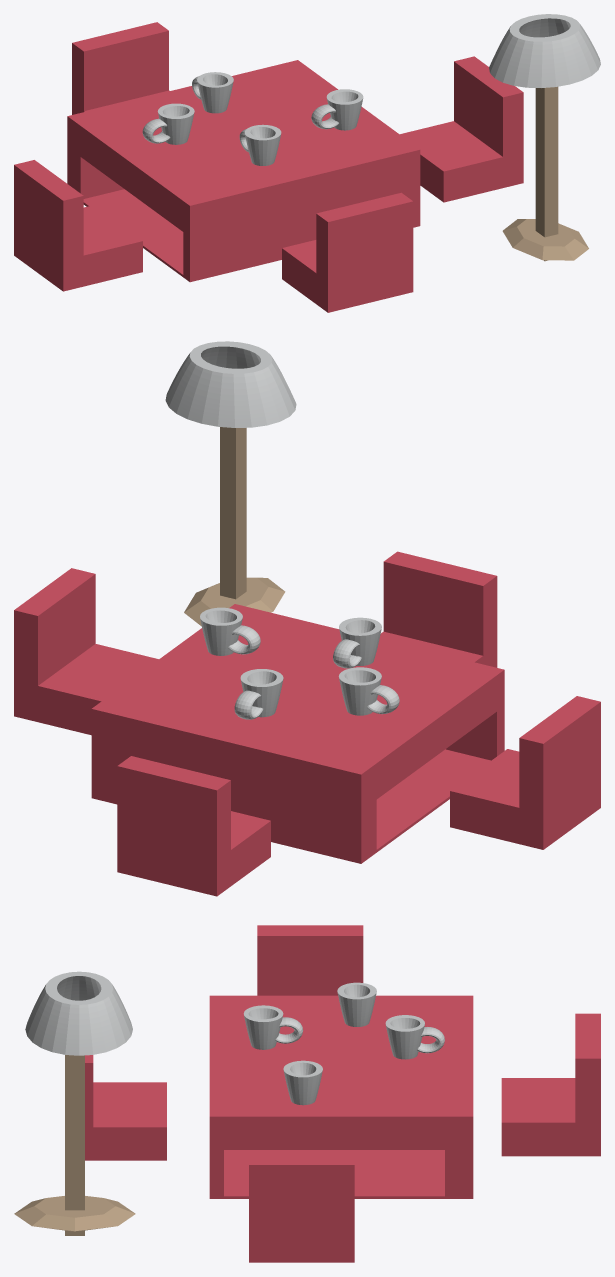
Rendered from GLTFmodel.glb.
3 renders of one model, top to bottom at view 1: azimuth 30°, elevation 25°; view 2: azimuth 150°, elevation 25°; view 3: azimuth 270°, elevation 25°, orthographic. The views are drawn at different scales.
Visible parts, largest first — view 1: Mesh_Mesh_head_geo.001_lambert2SG.001; view 2: Mesh_Mesh_head_geo.001_lambert2SG.001; view 3: Mesh_Mesh_head_geo.001_lambert2SG.001.
Part boxes in pixels (x1,y1,x2,y2): Mesh_Mesh_head_geo.001_lambert2SG.001: (14, 14, 600, 312); Mesh_Mesh_head_geo.001_lambert2SG.001: (14, 341, 600, 896); Mesh_Mesh_head_geo.001_lambert2SG.001: (14, 925, 600, 1262).
Size of the model in its own units: 200 by 95 by 207.
